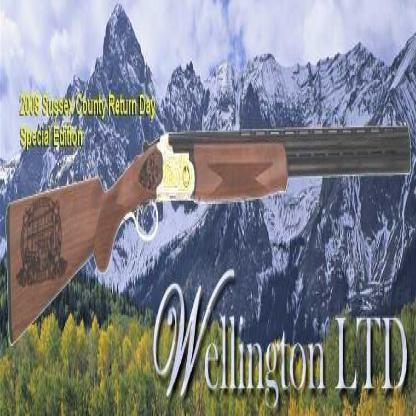rifle: (6, 100, 414, 351)
